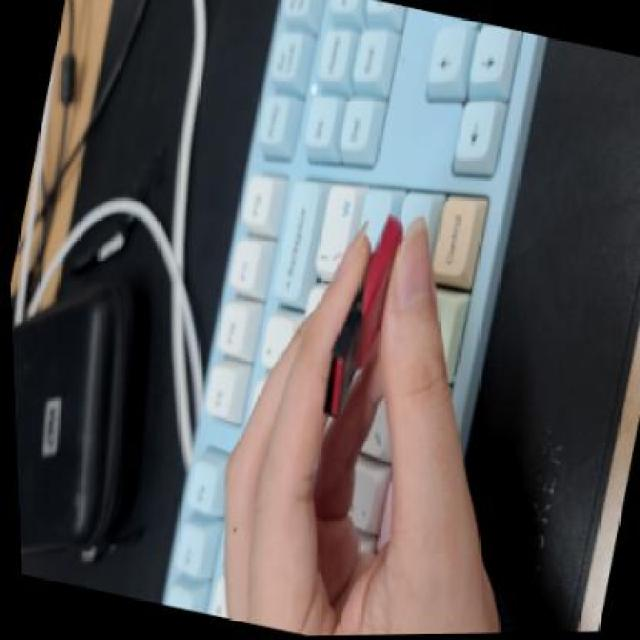Flashdisk: (308, 203, 410, 428)
